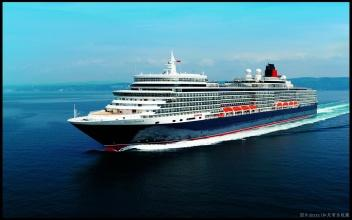youlun: (70, 49, 318, 154)
